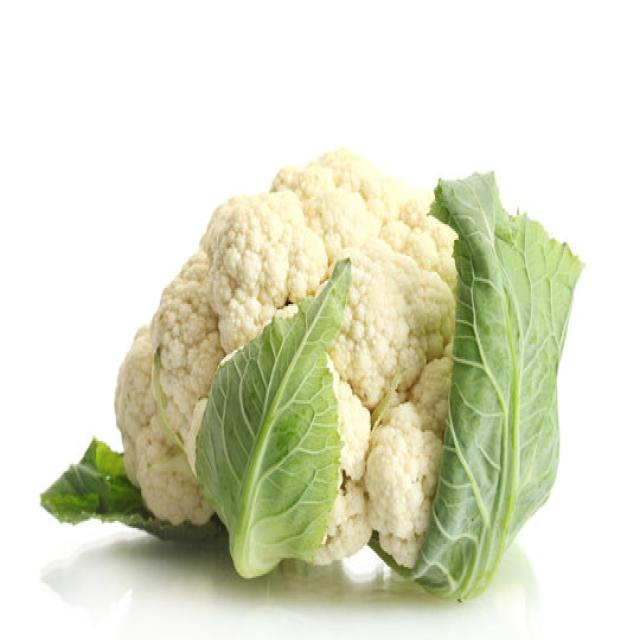Cauliflower: (145, 144, 493, 572)
